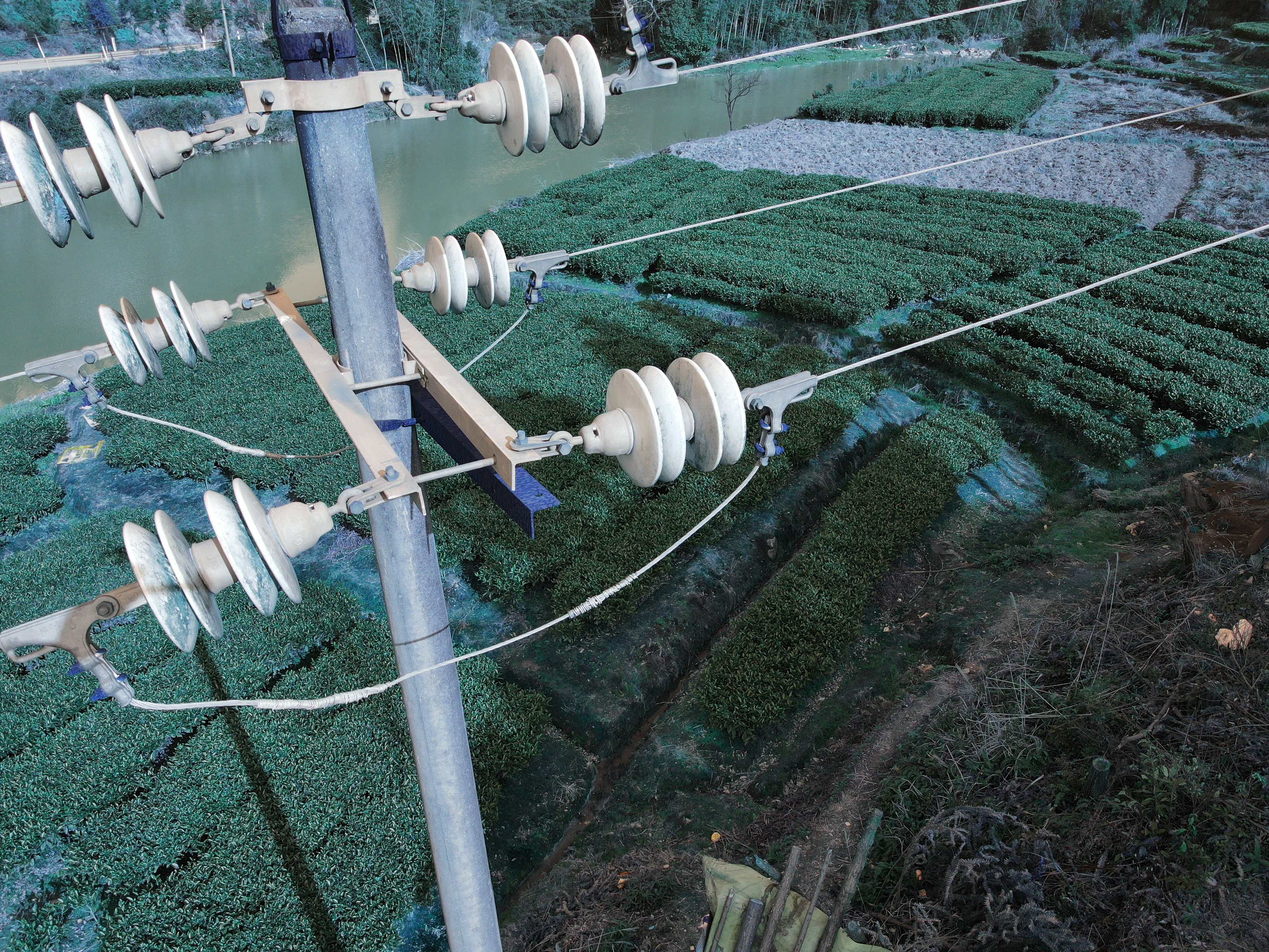severe_soiling_no_discharge_whole: (111, 477, 336, 653), (6, 94, 194, 249), (575, 348, 758, 490), (461, 31, 612, 159), (92, 279, 239, 384), (409, 226, 516, 319)
